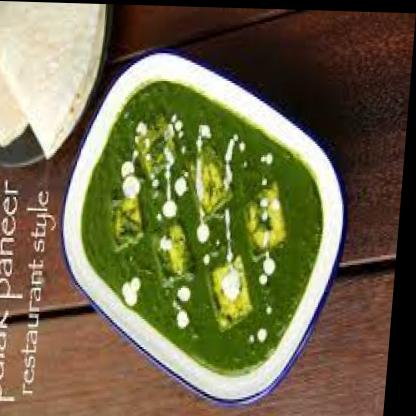palak_paneer: (75, 76, 335, 375)
